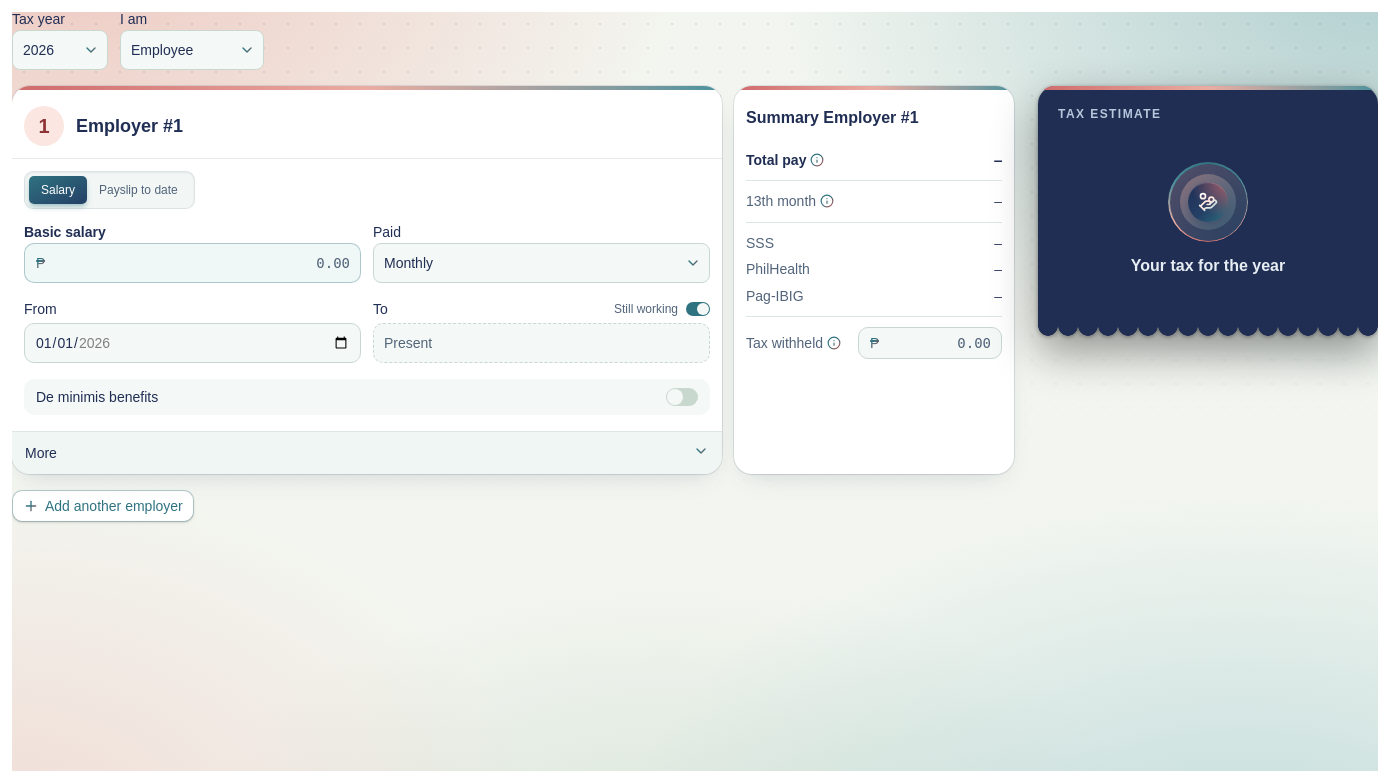
Test case: MyYear: who it is for › keeps the employers when switching away and back
This screenshot has width=1378, height=771.
In the field labelled "Basic salary": (192, 263) [24,243,361,283], type "5"
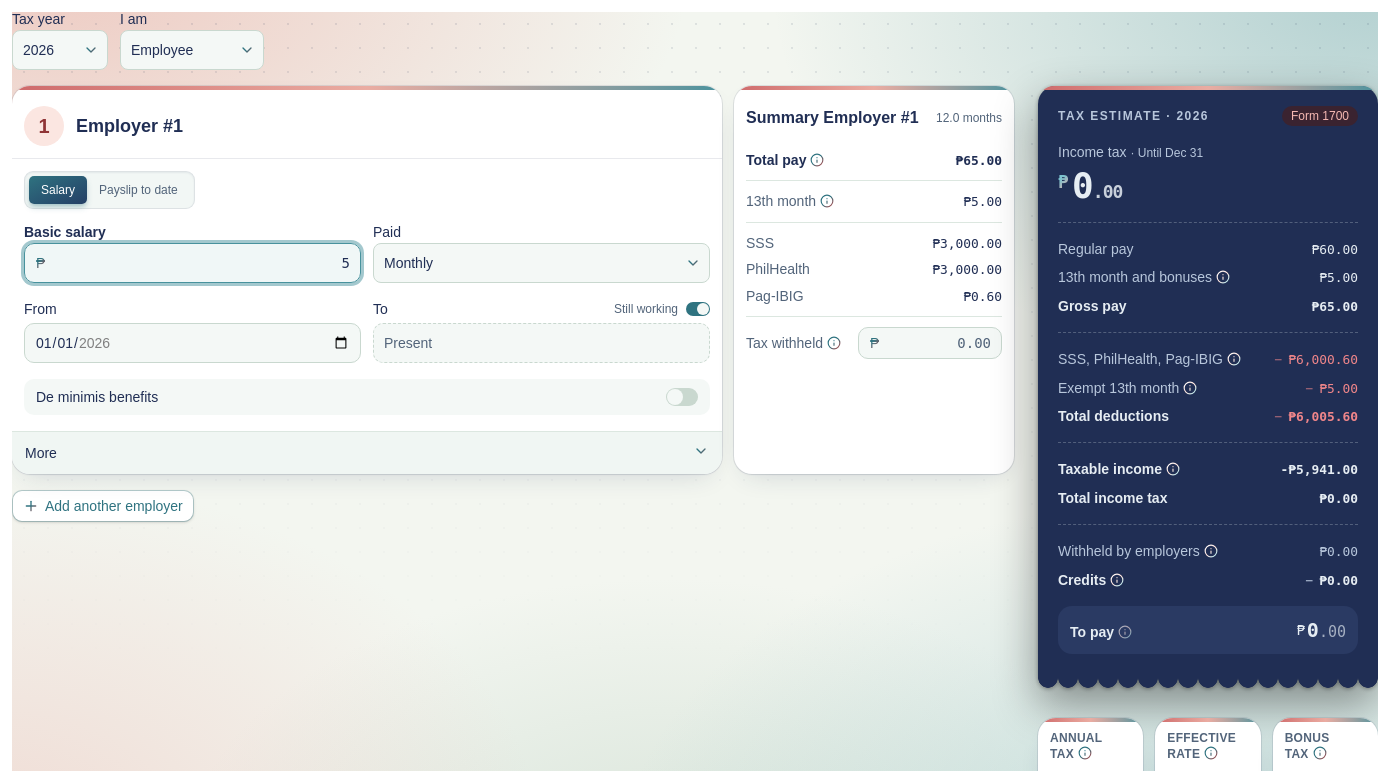
Click the dropdown named "I am": (192, 50) [120,30,264,70]
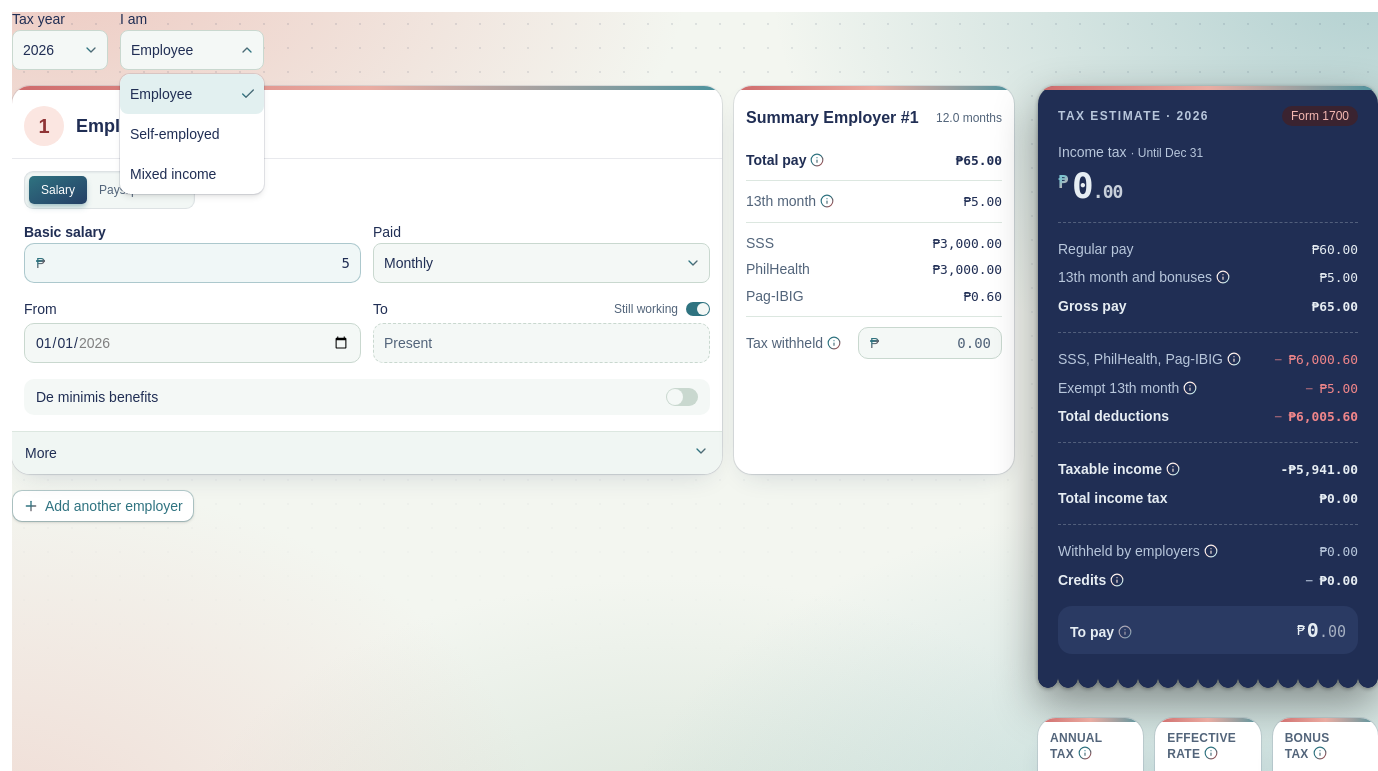
Click the option "Self-employed": (175, 134) [130,126,220,142]
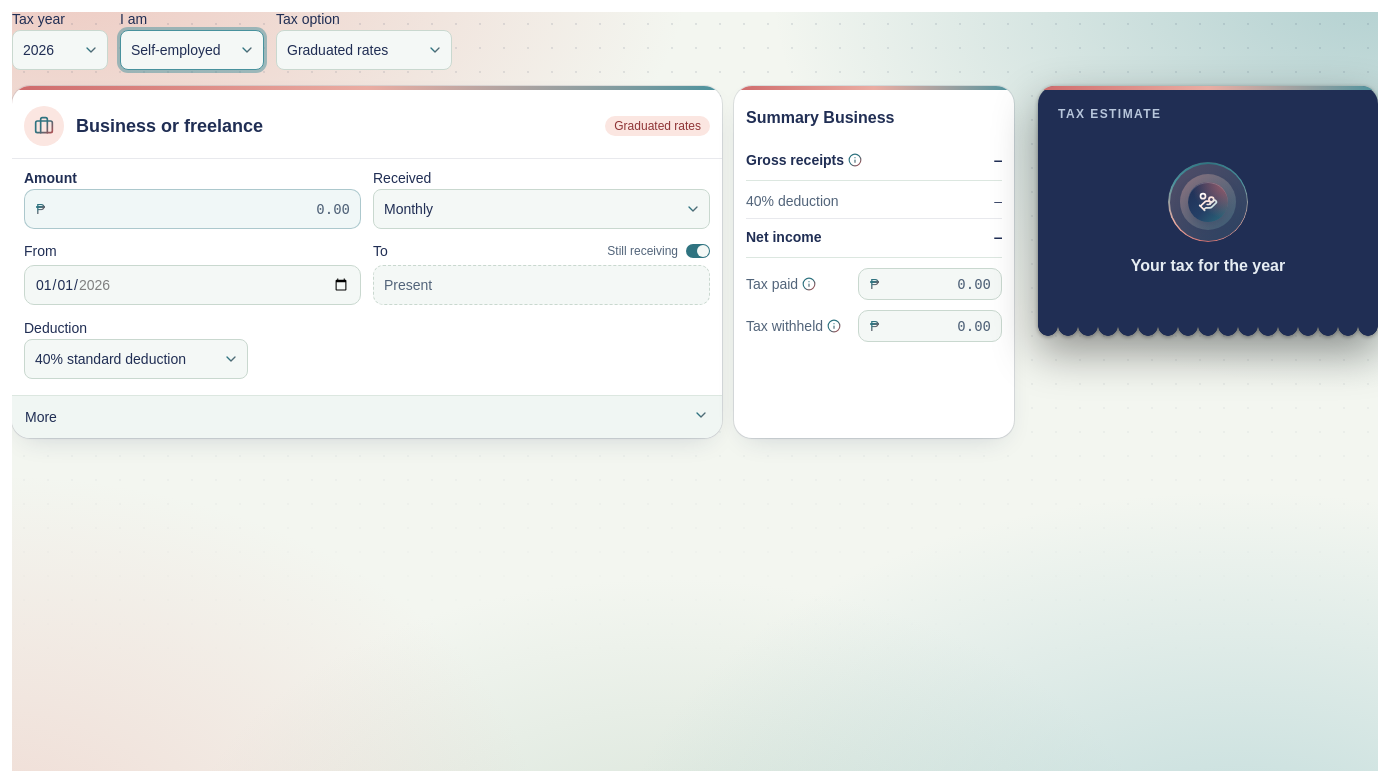
Click the dropdown named "I am": (192, 50) [120,30,264,70]
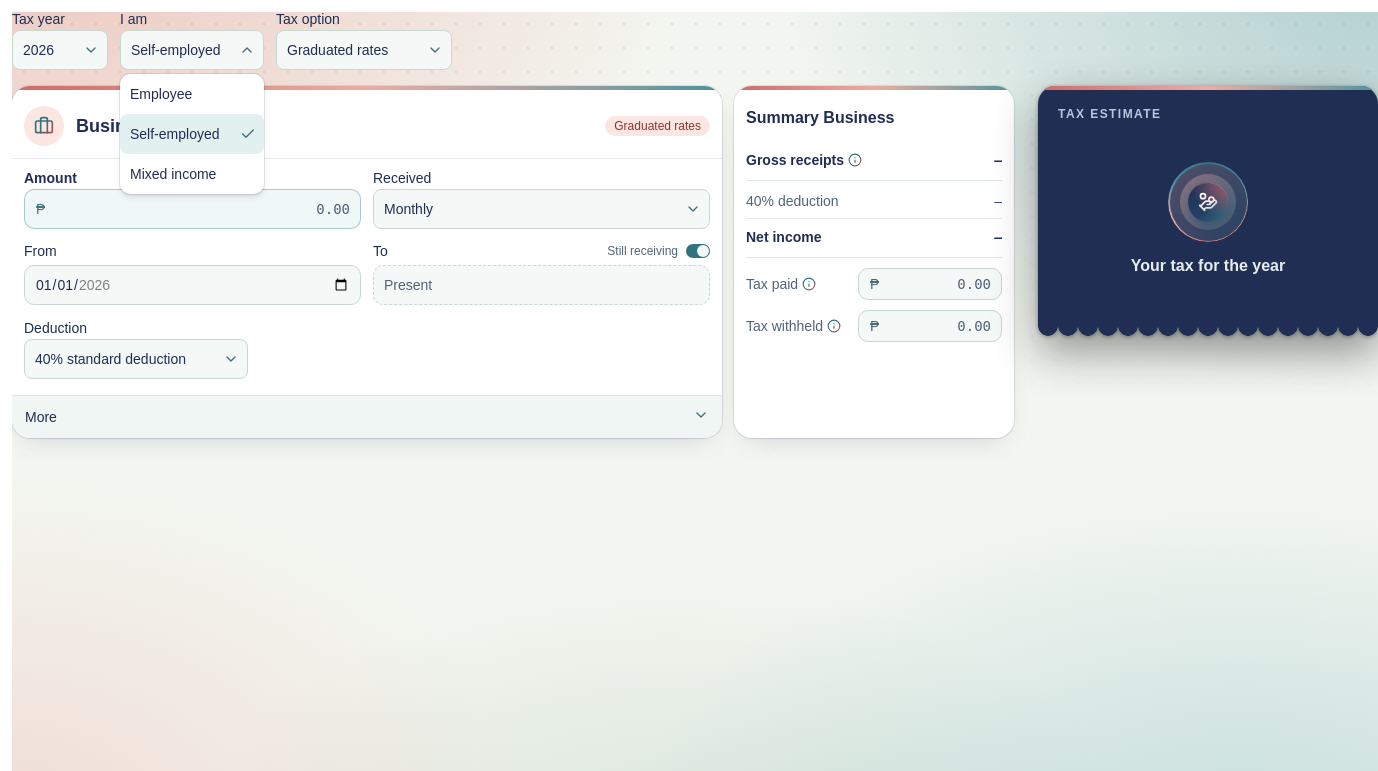
Click the option "Employee": (161, 94) [130,86,192,102]
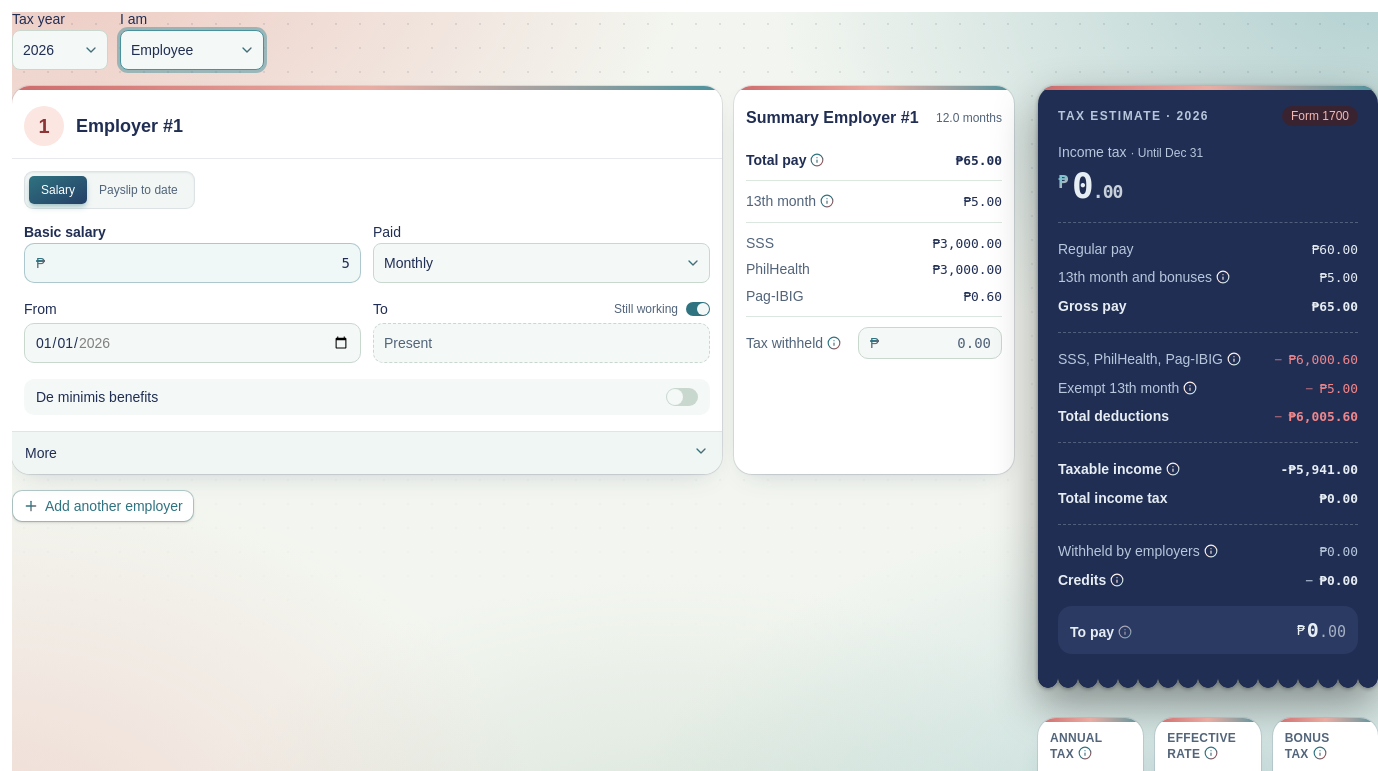
Now the field labelled "Basic salary" holds "5", box [24,243,361,283]
